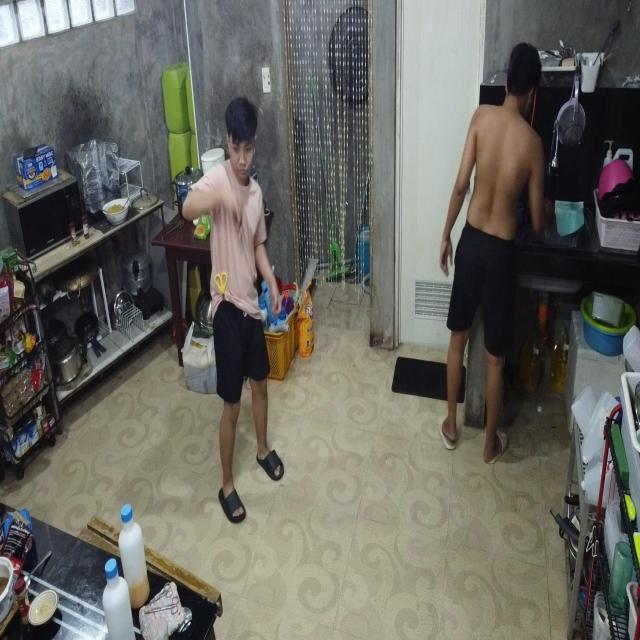scissor: (147, 582, 173, 606), (145, 596, 179, 614), (215, 273, 228, 301)
